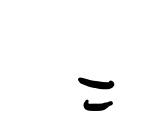eqv: (78, 77, 114, 112)
